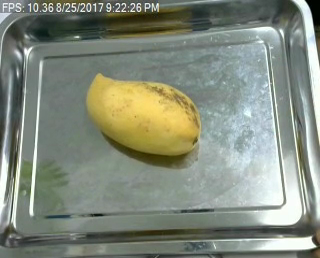Mango: (84, 69, 201, 157)
